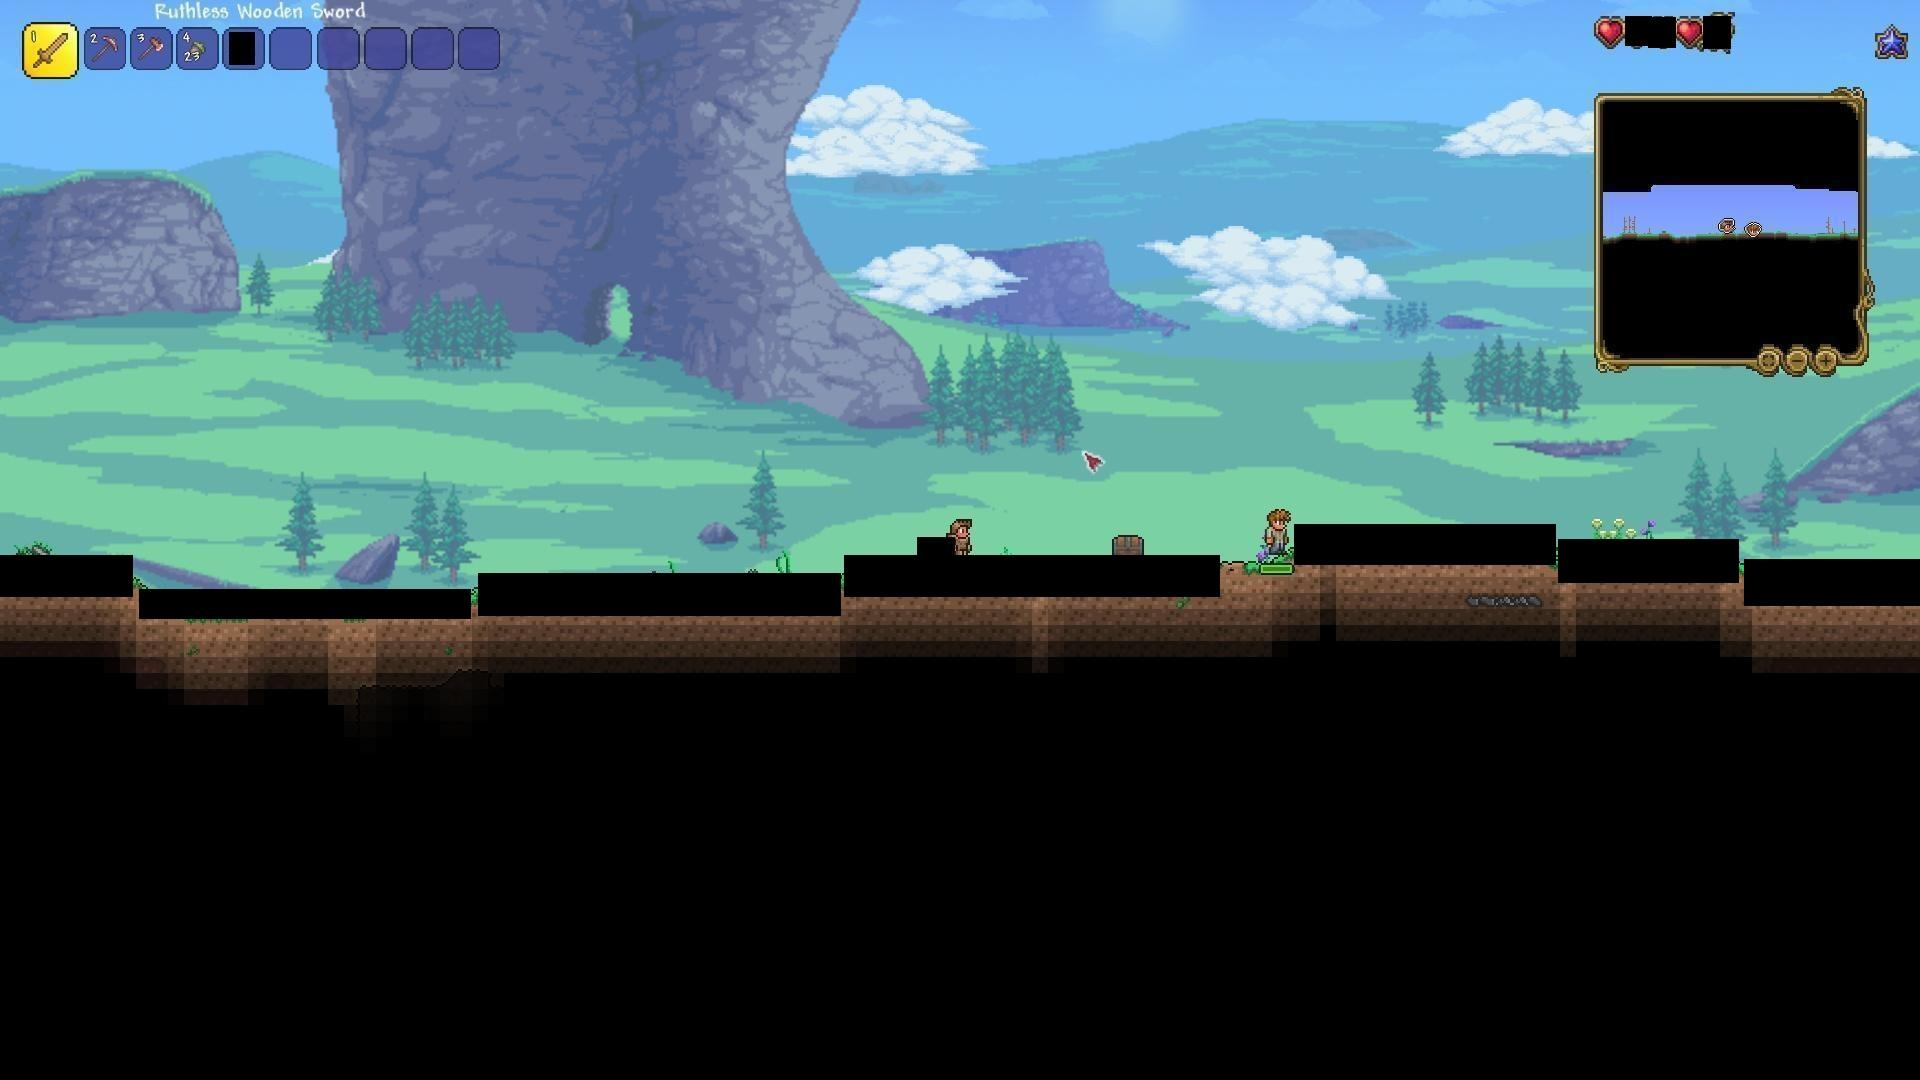heart: (1675, 16, 1702, 47), (1596, 15, 1625, 44)
